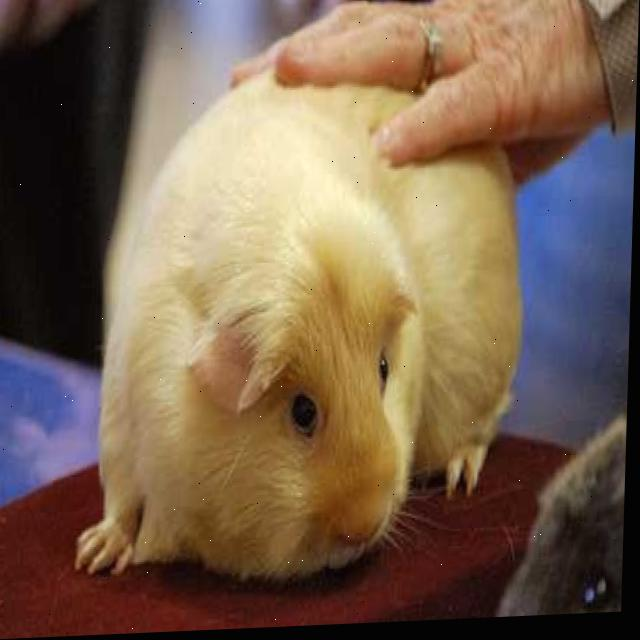guinea pig: (98, 35, 531, 589), (485, 418, 630, 622)
